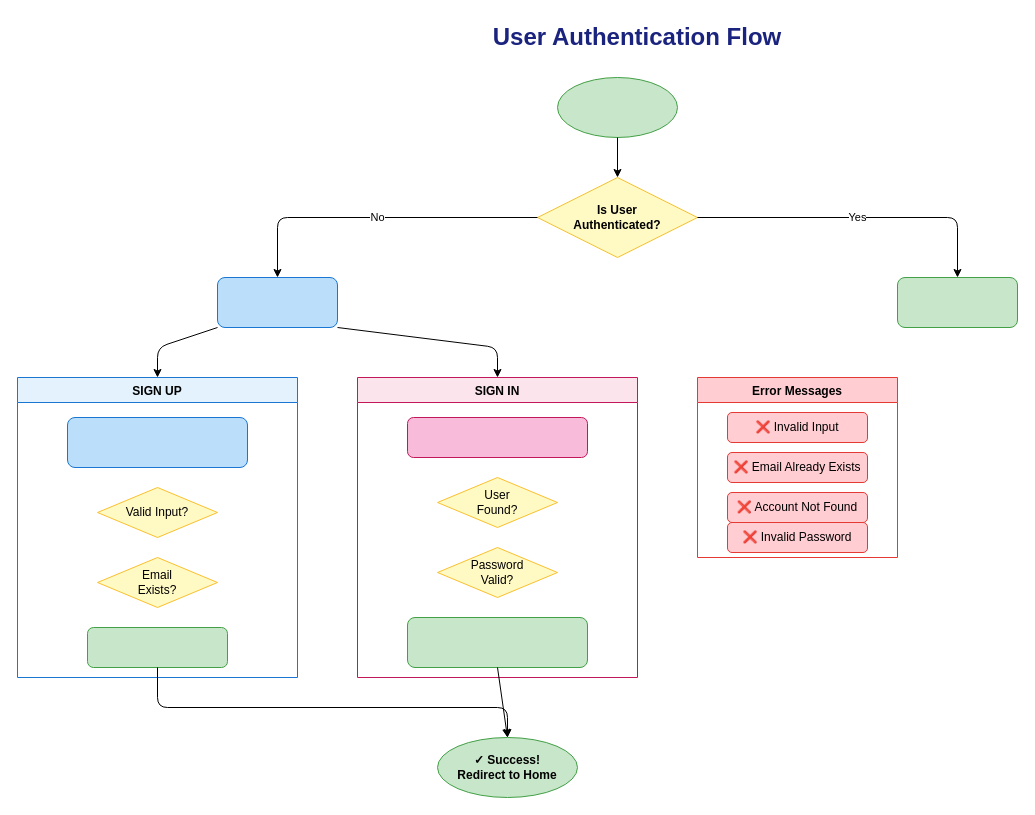
Some shapes in this 1035 by 815 pixel diagram are drawn without their labels. The shapes that lost their labels are listed below. From the top down, each one's centre as x and y in pixels, then its label:
[617,107]: User Visits PhotoSpotOman
[277,302]: Login Page
[957,302]: Home Page (Full Access)
[157,442]: Fill Registration Form (Name, Email, Password)
[497,437]: Enter Email & Password
[157,647]: Hash Password Create User
[497,642]: Create Claims Identity Set Auth Cookie
